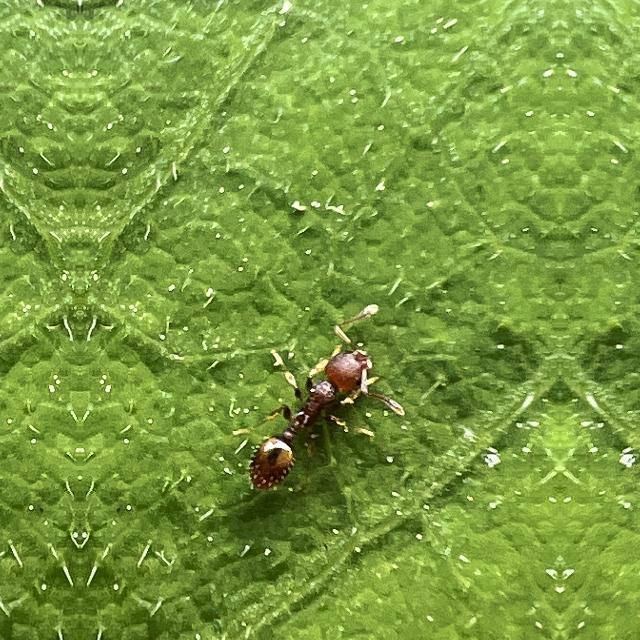Temnothorax: (222, 334, 416, 522)
